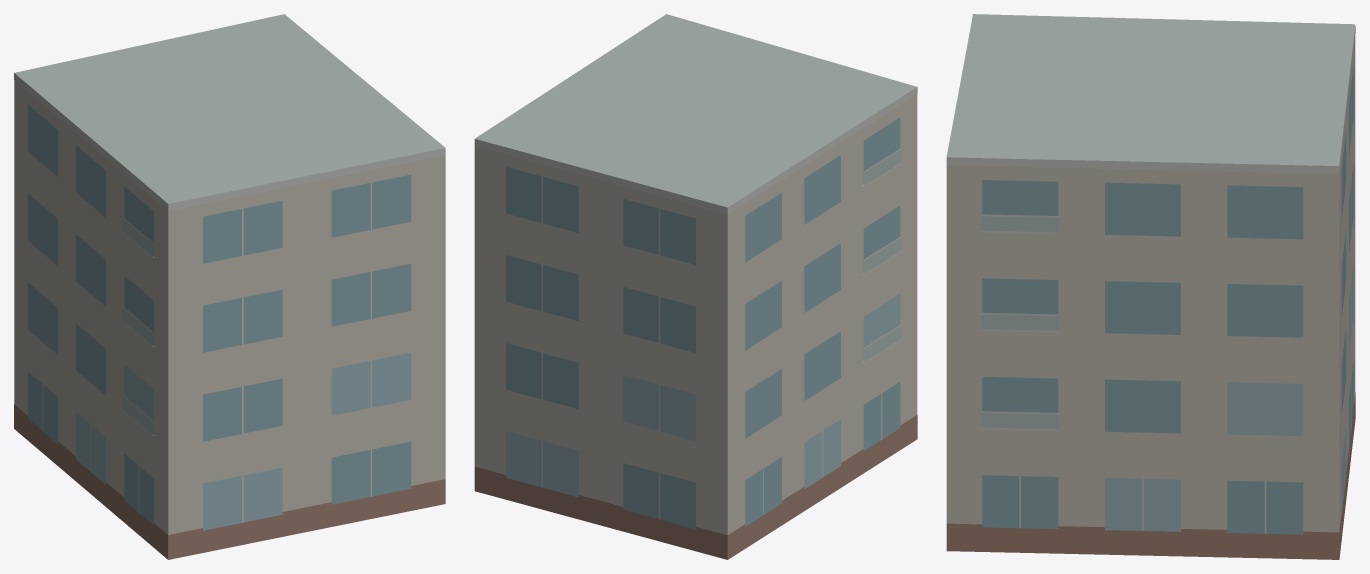
Rendered from survey-upis-33022042.glb.
3 views of the same model, side by side, from view 1: azimuth 30°, elevation 25°; view 2: azimuth 150°, elevation 25°; view 3: azimuth 270°, elevation 25° (orthographic). The views are drawn at different scales.
Visible parts, largest first — view 1: survey-upis-33022042.tmp; view 2: survey-upis-33022042.tmp; view 3: survey-upis-33022042.tmp.
Part boxes in pixels (bbox=[...]): survey-upis-33022042.tmp: bbox=[14, 14, 445, 559]; survey-upis-33022042.tmp: bbox=[474, 14, 917, 559]; survey-upis-33022042.tmp: bbox=[946, 14, 1355, 559].
Size of the model in its own units: 10.12 by 12.2 by 11.5.
